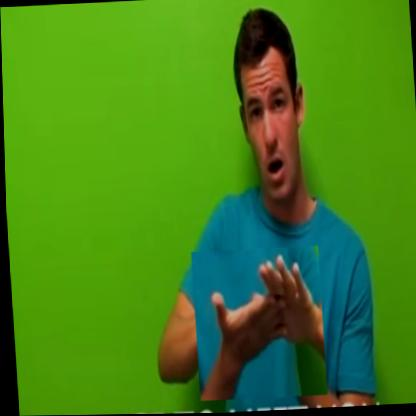NiceToMeetYou: (189, 247, 325, 401)
